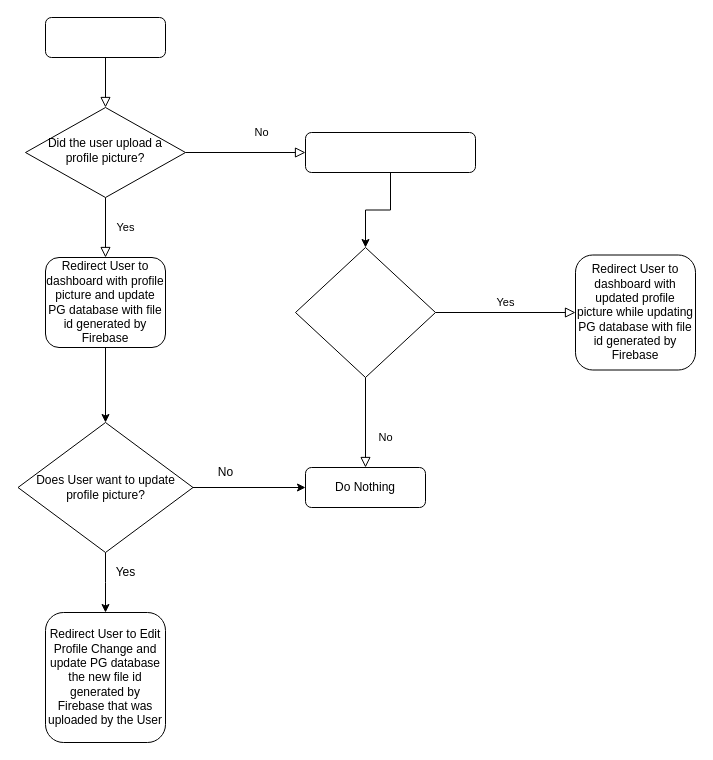
This 713x760 diagram has some shape labels left out. Each missing label, with the centre of its shape:
"Does User want to upload profile picture" belongs at (365,312).
"Redirect User to Dashboard with empty profile picture" belongs at (390,152).
"User completes registration process" belongs at (105,37).
